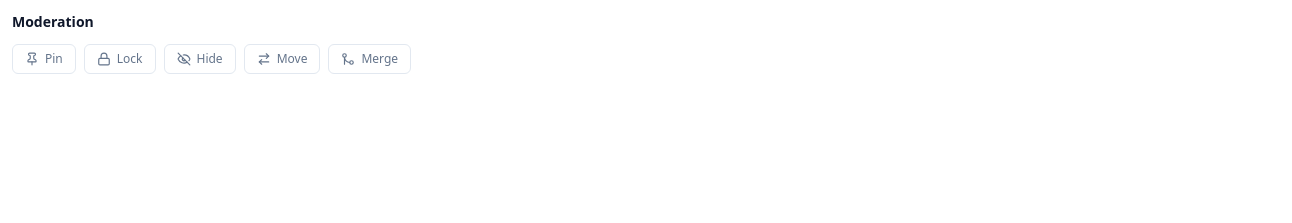
ModerationActions › hides merge panel after merge
This screenshot has width=1292, height=223.
Click the button with test id "action-merge-toggle": (370, 59) [328, 44, 411, 74]
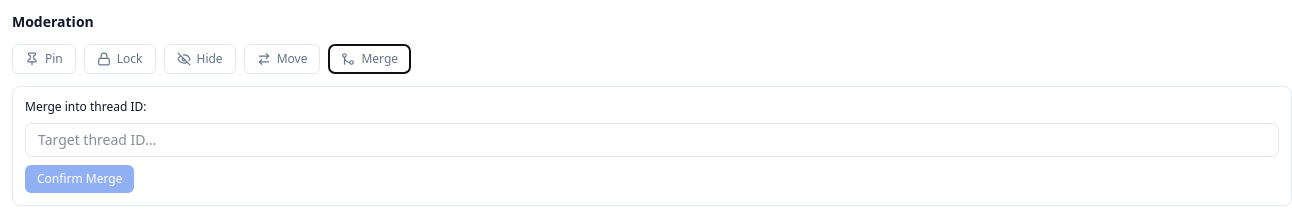
In the field with test id "merge-thread-input": (652, 140) [25, 123, 1279, 157], type "target"
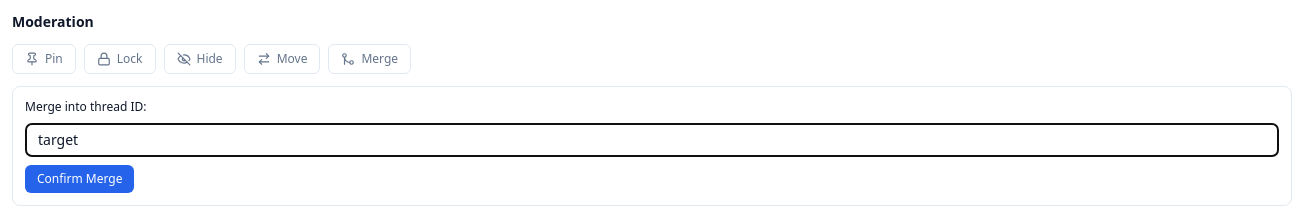
Click the button with test id "merge-confirm-btn": (80, 179) [25, 165, 134, 193]
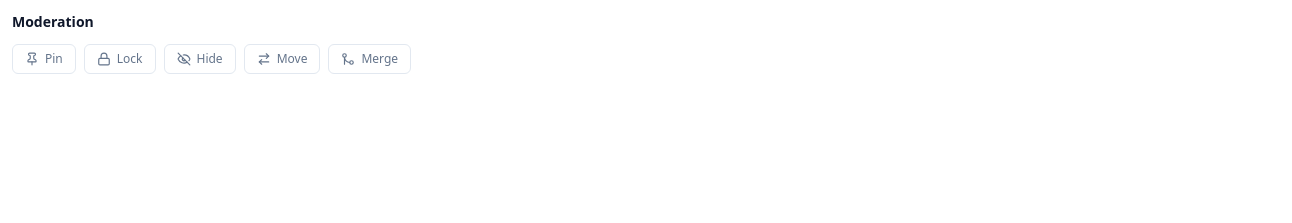
Result: the element with test id "merge-panel" is gone
